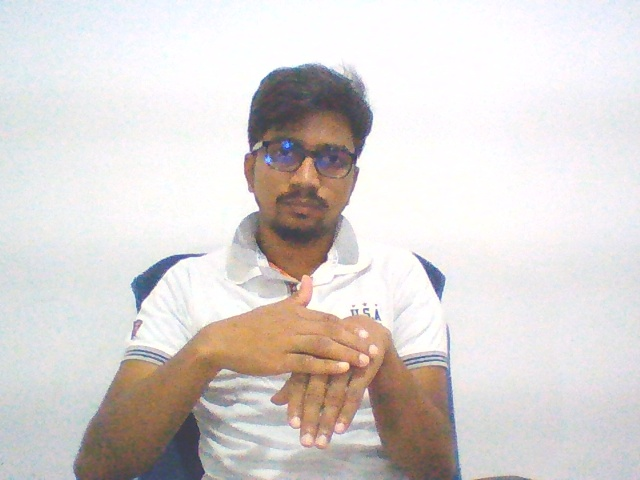pineapple: (185, 268, 394, 452)
